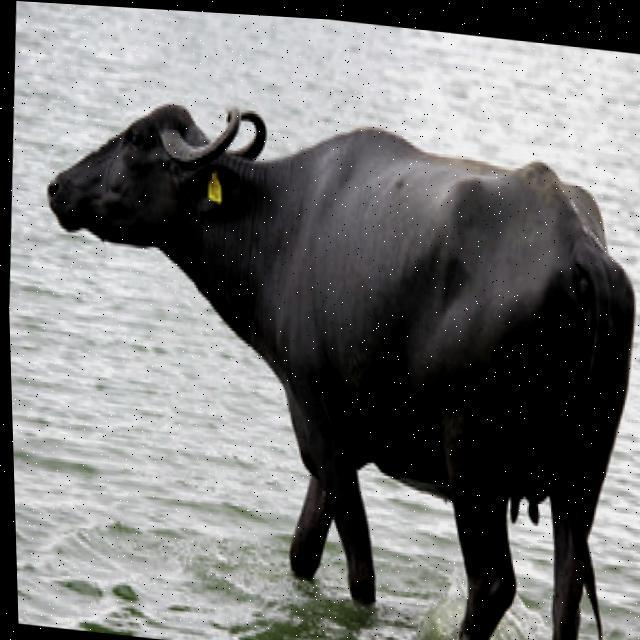Buffalo: (17, 75, 640, 640)
